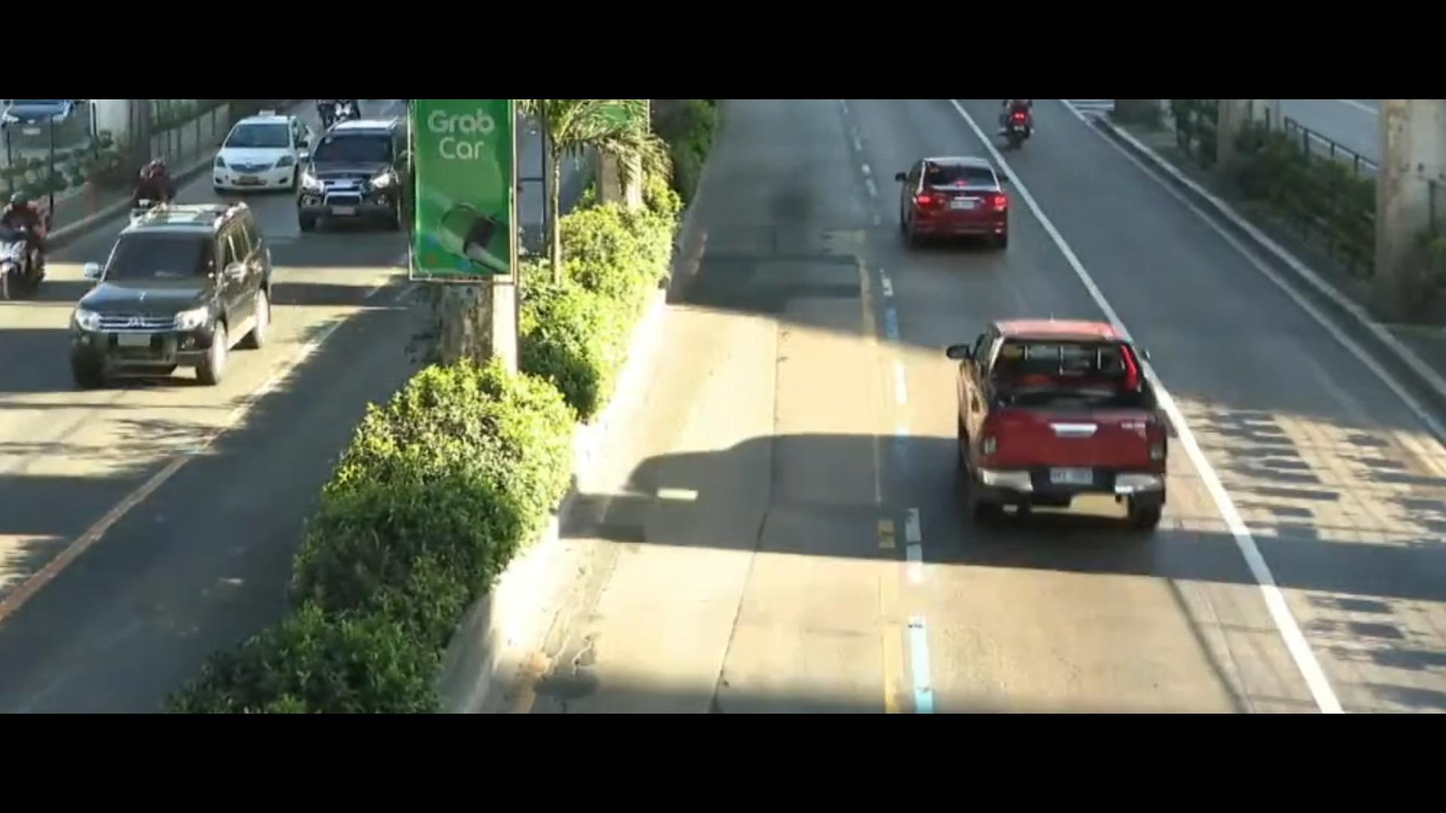Motorcycle: (0, 190, 72, 313), (980, 102, 1059, 157), (135, 155, 189, 220)
Pickup: (926, 292, 1228, 547)
SUV: (61, 183, 288, 401), (293, 123, 422, 246)
Sedan: (859, 149, 1030, 264), (206, 102, 320, 205)
